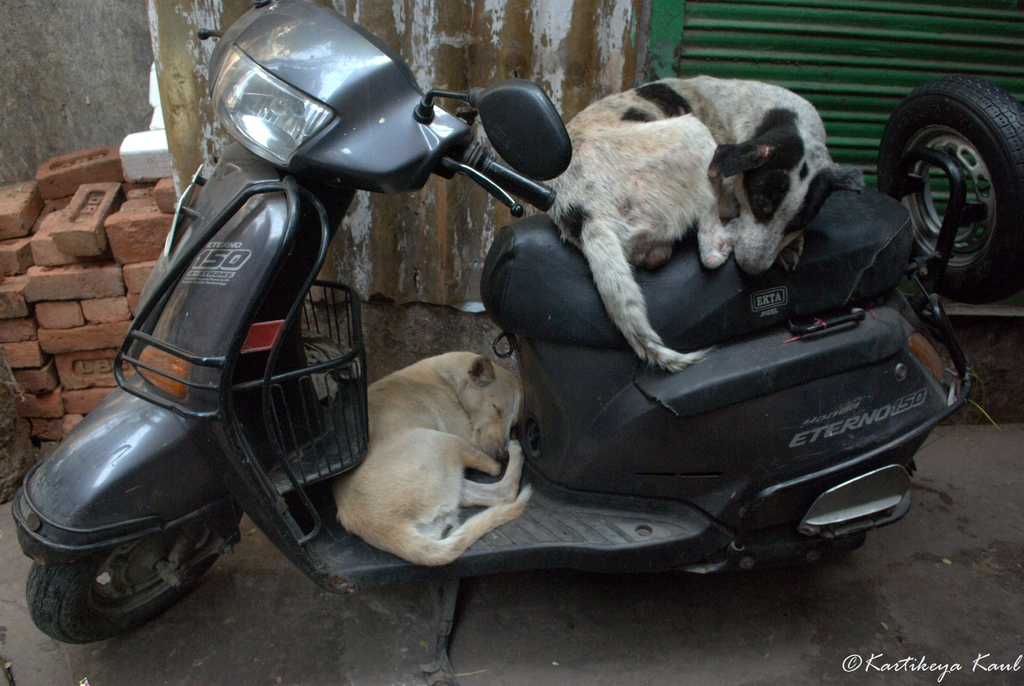Motorcycle: (33, 31, 847, 686)
